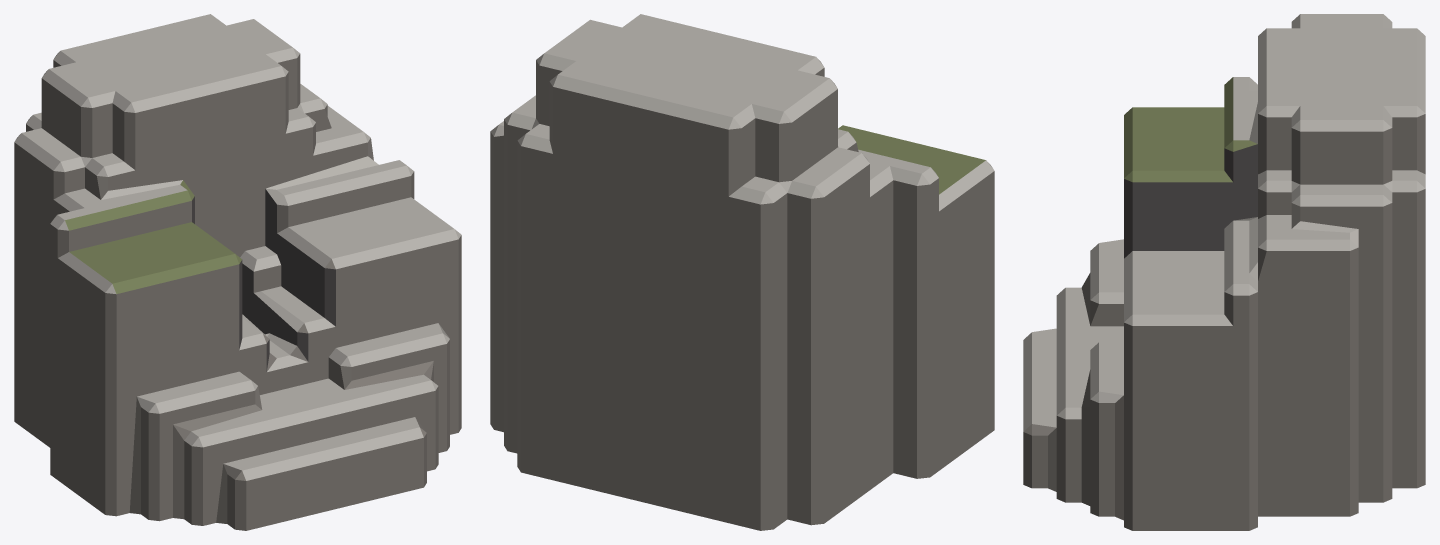
File: rock_stage1_var_4.glb
3 views of the same model, side by side, from view 1: azimuth 30°, elevation 25°; view 2: azimuth 150°, elevation 25°; view 3: azimuth 270°, elevation 25° (orthographic). The views are drawn at different scales.
Parts seen in each view (by area): view 1: destructible_rock_stage_1_var_5_S, destructible_rock_stage_1_var_5_L, destructible_rock_stage_1_var_5_M, destructible_rock_stage_1_var_5_D; view 2: destructible_rock_stage_1_var_5_S, destructible_rock_stage_1_var_5_L, destructible_rock_stage_1_var_5_M; view 3: destructible_rock_stage_1_var_5_S, destructible_rock_stage_1_var_5_L, destructible_rock_stage_1_var_5_D, destructible_rock_stage_1_var_5_M.
Part boxes in pixels (box(x1,y1,x2,y2)): destructible_rock_stage_1_var_5_S: box(14, 54, 461, 530); destructible_rock_stage_1_var_5_L: box(14, 14, 461, 480); destructible_rock_stage_1_var_5_M: box(65, 180, 241, 293); destructible_rock_stage_1_var_5_D: box(192, 189, 335, 371); destructible_rock_stage_1_var_5_S: box(490, 60, 994, 530); destructible_rock_stage_1_var_5_L: box(490, 14, 994, 211); destructible_rock_stage_1_var_5_M: box(838, 125, 985, 194); destructible_rock_stage_1_var_5_S: box(1023, 114, 1425, 530); destructible_rock_stage_1_var_5_L: box(1023, 14, 1425, 431); destructible_rock_stage_1_var_5_D: box(1124, 144, 1257, 258); destructible_rock_stage_1_var_5_M: box(1124, 77, 1257, 182).
Bounding box in the file's own units: 1.95 × 1.8 × 1.8.
